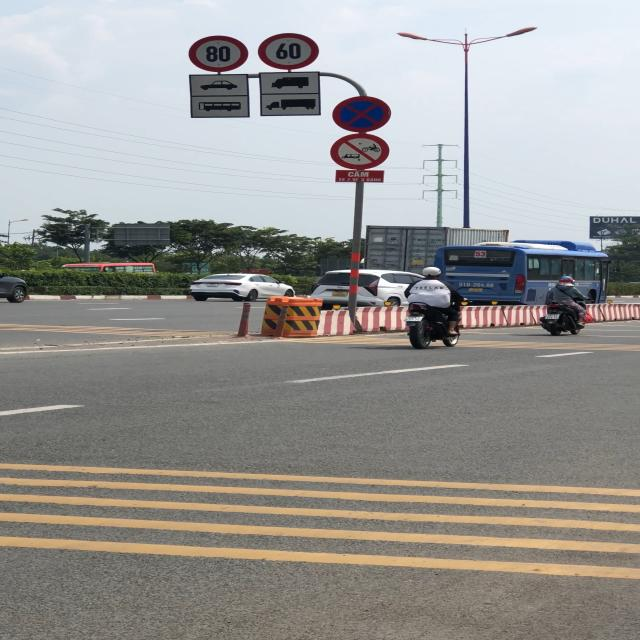Bien bao cam dung xe va do xe: (331, 95, 395, 133)
Bien bao toc do toi da cho phep: (254, 32, 324, 71), (186, 34, 248, 74)
